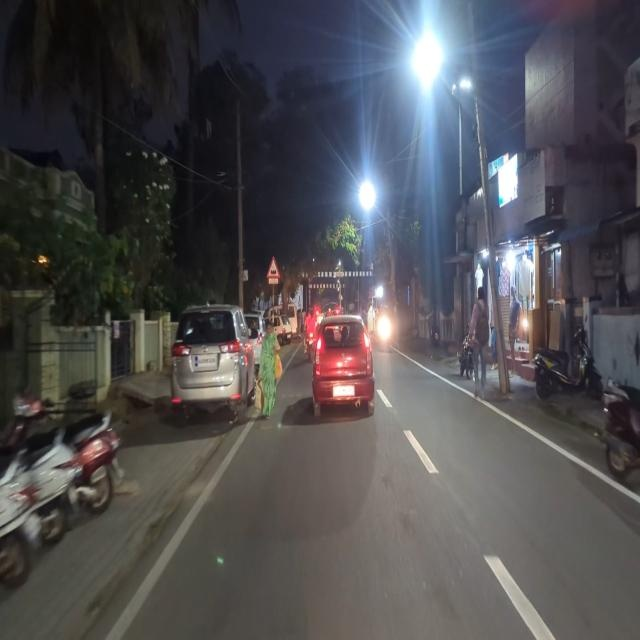bien_nguy_hiem: (266, 255, 281, 278)
